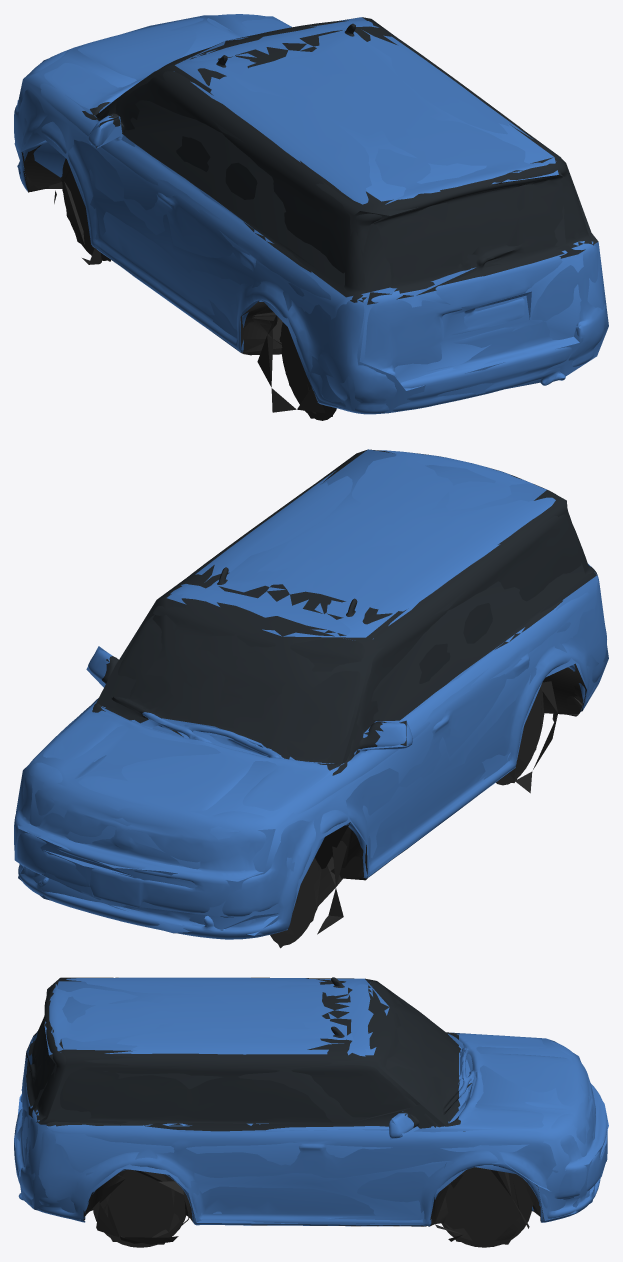
Rendered from ford-flex.glb.
3 renders of one model, top to bottom at view 1: azimuth 30°, elevation 25°; view 2: azimuth 150°, elevation 25°; view 3: azimuth 270°, elevation 25°, orthographic. The views are drawn at different scales.
Parts seen in each view (by area): view 1: body, far; view 2: body, far; view 3: body, far.
Boxes of the visible parts, x1=… form: body: x1=14, y1=14, x2=605, y2=420; far: x1=14, y1=15, x2=608, y2=418; body: x1=14, y1=450, x2=606, y2=945; far: x1=14, y1=449, x2=608, y2=948; body: x1=14, y1=977, x2=607, y2=1247; far: x1=14, y1=977, x2=608, y2=1244.
Bounding box in the file's own units: 2.55 × 2.02 × 5.22.
